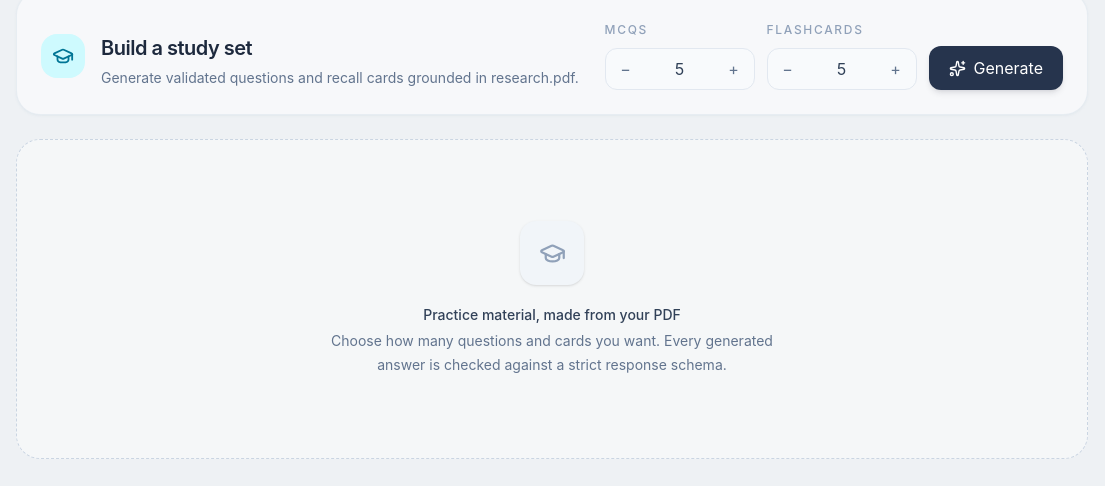
it: StudyPanel › renders validated MCQs and interactive flashcards
Step 1. Click the button "Generate" → (996, 68), box [928,46,1063,90]
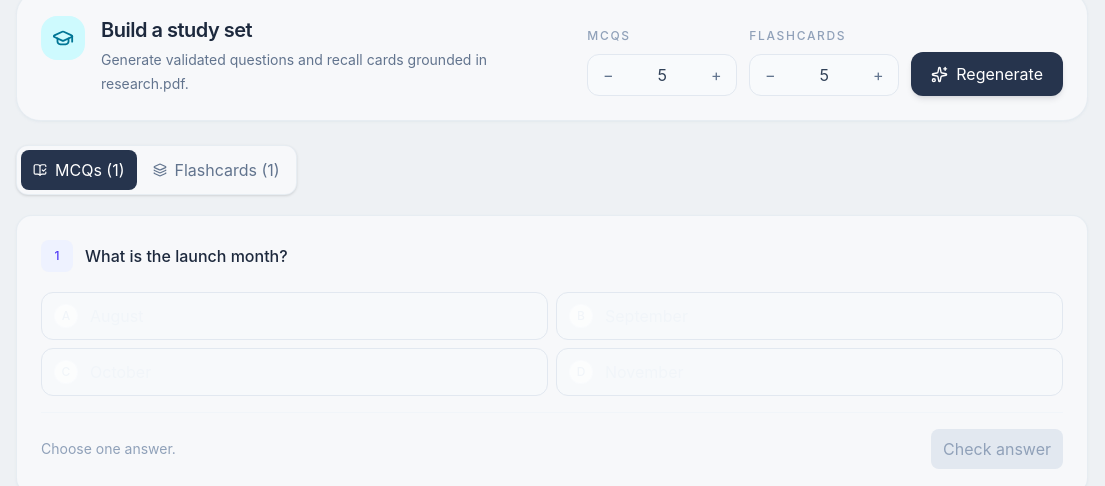
Check: the heading "What is the launch month?" is shown, box [85,240,288,268]
Step 2. Click the button "Flashcards (1)" → (216, 170), box [140,150,292,190]
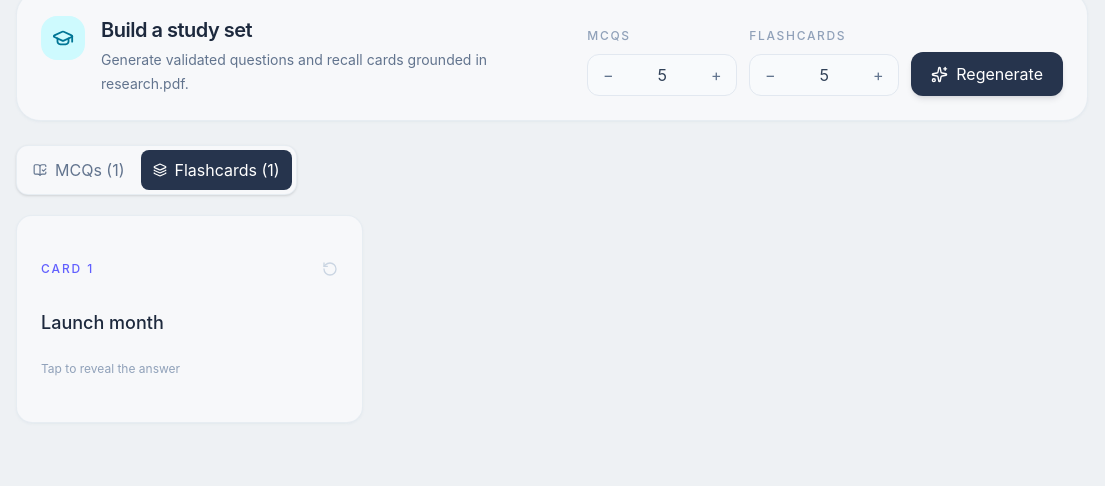
Step 3. Click the button "Card 1 Launch month Tap to reveal the answer" → (68, 268), box [16,215,363,423]
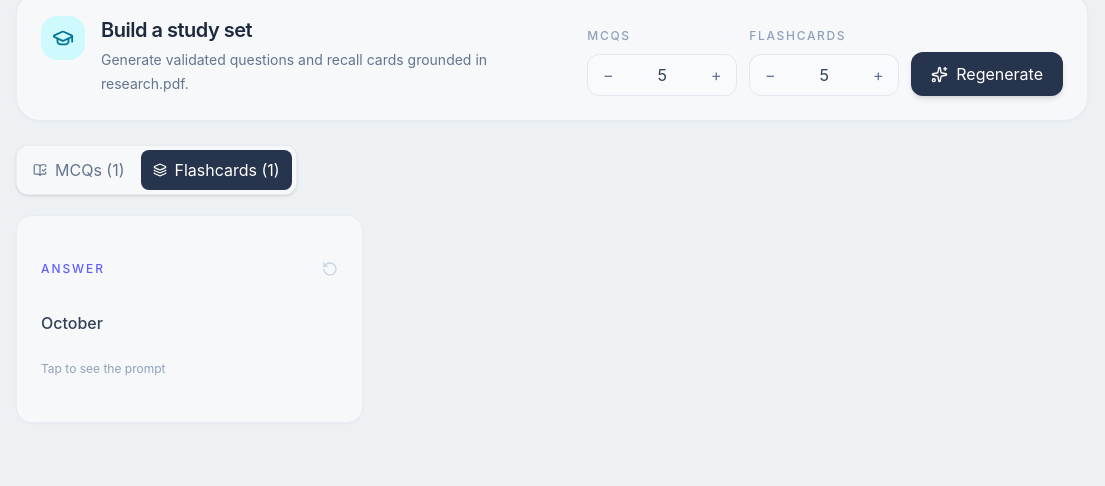
Check: the text "October" is shown, box [41,313,103,333]
